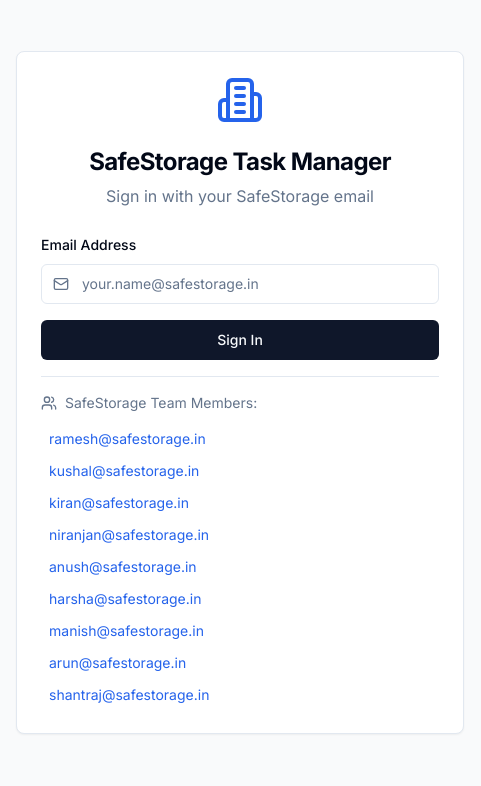
Test case: LoginForm - 100% Coverage › Login Functionality › clears previous errors on new submission attempt
The width and height of the screenshot is (481, 786).
# First, trigger an error
Click the button "Sign In".
click(240, 340)  # box x1=41 y1=320 x2=439 y2=360
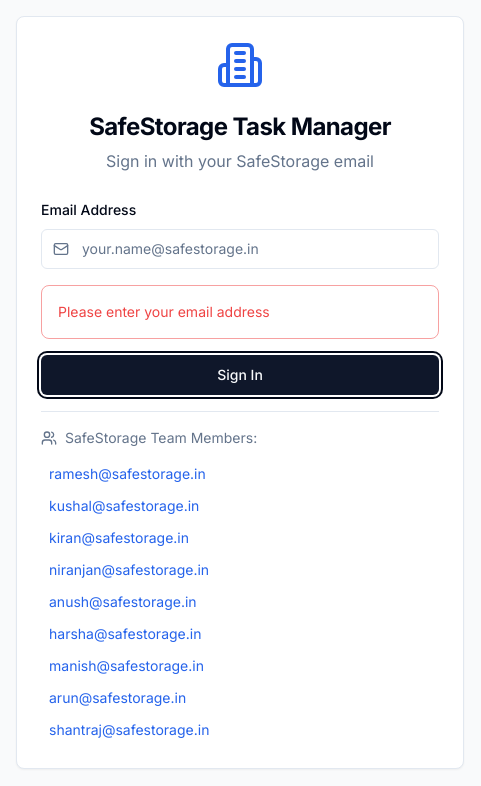
Result: the text "Please enter your email address" is shown at x1=58 y1=302 x2=270 y2=320
# Now enter valid email and submit
Type "ramesh@safestorage.in" into the field labelled "Email Address".
click(240, 248); type("ramesh@safestorage.in")  # box x1=41 y1=228 x2=439 y2=268
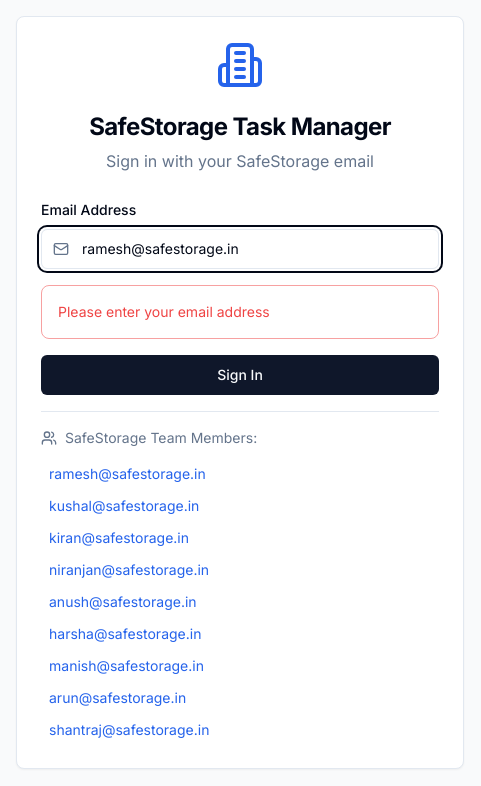
Click the button "Sign In".
click(240, 374)  # box x1=41 y1=354 x2=439 y2=394
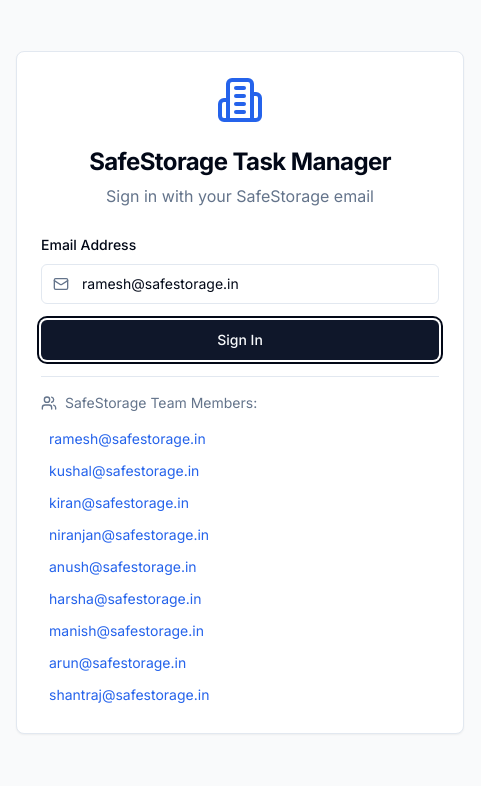
Result: the text "Please enter your email address" is gone
